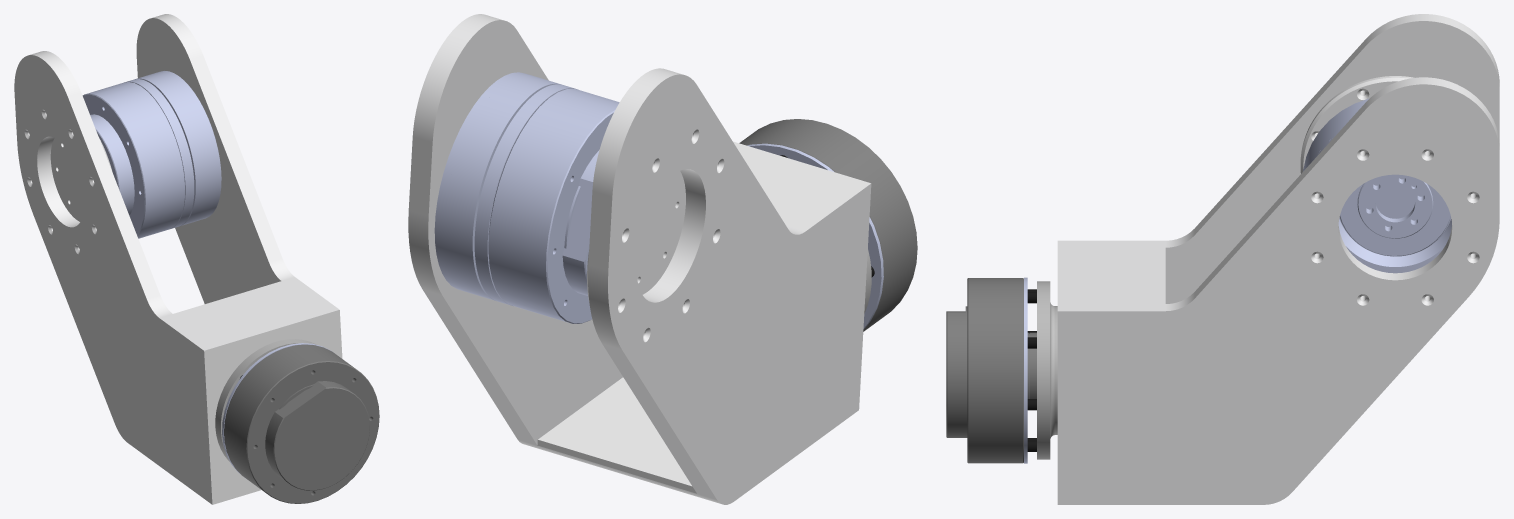
File: arm_base.dae
3 renders of one model, left to right at view 1: azimuth 30°, elevation 25°; view 2: azimuth 150°, elevation 25°; view 3: azimuth 270°, elevation 25°, orthographic. The views are drawn at different scales.
Parts seen in each view (by area): view 1: RA - Assembly v113.step-1/Link_1 (Shoulder).step-1/Link_1 (S (×4), 01.04.11.01.02_01_Motor_AK80-8, RA - Assembly v113.step-1/Joint_2 (1).step-1/Cycloidal_Gear_ (×4), RA - Assembly v113.step-1/Joint_2 (1).step-1/Shaft_J2_J3_Mou, 01.04.11.01.05_01_Midplate, 01.04.11.01.06_01_Base_Spacer; view 2: RA - Assembly v113.step-1/Link_1 (Shoulder).step-1/Link_1 (S (×5), RA - Assembly v113.step-1/Joint_2 (1).step-1/Cycloidal_Gear_ (×4), 01.04.11.01.02_01_Motor_AK80-8, RA - Assembly v113.step-1/Joint_2 (1).step-1/Shaft_J2_J3_Mou, 01.04.11.01.06_01_Base_Spacer; view 3: RA - Assembly v113.step-1/Link_1 (Shoulder).step-1/Link_1 (S (×4), 01.04.11.01.02_01_Motor_AK80-8, RA - Assembly v113.step-1/Joint_2 (1).step-1/Cycloidal_Gear_ (×2), 01.04.11.01.05_01_Midplate, RA - Assembly v113.step-1/Joint_2 (1).step-1/Shaft_J2_J3_Mou, 01.04.11.01.06_01_Base_Spacer.
Boxes of the visible parts, x1,y1,x2,y2 form: RA - Assembly v113.step-1/Link_1 (Shoulder).step-1/Link_1 (S (×4): (14,14,342,504); 01.04.11.01.02_01_Motor_AK80-8: (224,344,379,503); RA - Assembly v113.step-1/Joint_2 (1).step-1/Cycloidal_Gear_ (×4): (82,71,221,238); RA - Assembly v113.step-1/Joint_2 (1).step-1/Shaft_J2_J3_Mou: (50,138,112,221); 01.04.11.01.05_01_Midplate: (215,339,316,461); 01.04.11.01.06_01_Base_Spacer: (222,343,333,478); RA - Assembly v113.step-1/Link_1 (Shoulder).step-1/Link_1 (S (×5): (408,14,871,504); RA - Assembly v113.step-1/Joint_2 (1).step-1/Cycloidal_Gear_ (×4): (434,72,619,323); 01.04.11.01.02_01_Motor_AK80-8: (739,119,917,331); RA - Assembly v113.step-1/Joint_2 (1).step-1/Shaft_J2_J3_Mou: (587,171,685,301); 01.04.11.01.06_01_Base_Spacer: (747,143,883,329); RA - Assembly v113.step-1/Link_1 (Shoulder).step-1/Link_1 (S (×4): (1057,14,1499,504); 01.04.11.01.02_01_Motor_AK80-8: (946,278,1029,463); RA - Assembly v113.step-1/Joint_2 (1).step-1/Cycloidal_Gear_ (×2): (1303,98,1451,273); 01.04.11.01.05_01_Midplate: (1037,281,1057,459); RA - Assembly v113.step-1/Joint_2 (1).step-1/Shaft_J2_J3_Mou: (1300,76,1414,173); 01.04.11.01.06_01_Base_Spacer: (1024,277,1027,463).
Size of the model in its own units: 0.1132 by 0.2917 by 0.2439.
